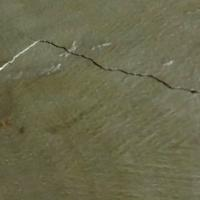crack: (1, 27, 199, 111)
